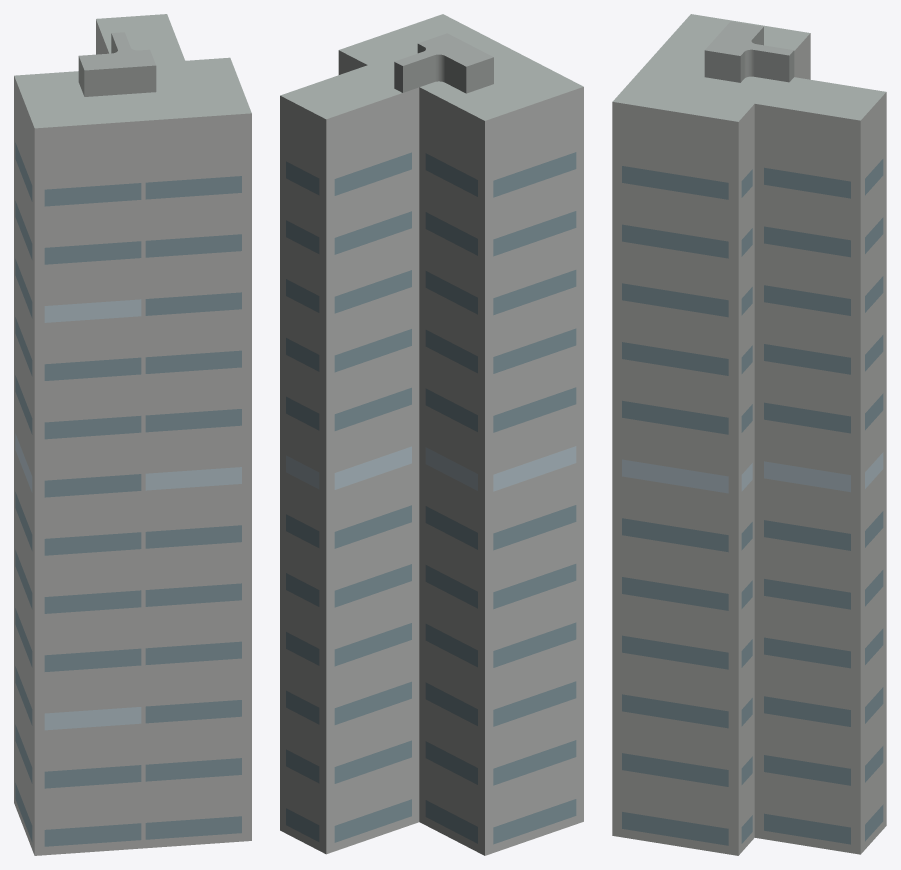
Rendered from fallback-jamsil-els-125.glb.
The picture shows the model from 3 angles, left to right: view 1: azimuth 30°, elevation 25°; view 2: azimuth 150°, elevation 25°; view 3: azimuth 270°, elevation 25°; orthographic projection.
Parts seen in each view (by area): view 1: fallback-jamsil-els-125; view 2: fallback-jamsil-els-125; view 3: fallback-jamsil-els-125.
Boxes of the visible parts, bbox=[...] form: fallback-jamsil-els-125: bbox=[14, 14, 251, 855]; fallback-jamsil-els-125: bbox=[280, 14, 583, 855]; fallback-jamsil-els-125: bbox=[612, 14, 886, 855].
Bounding box in the file's own units: 20.69 × 68 × 22.2.
